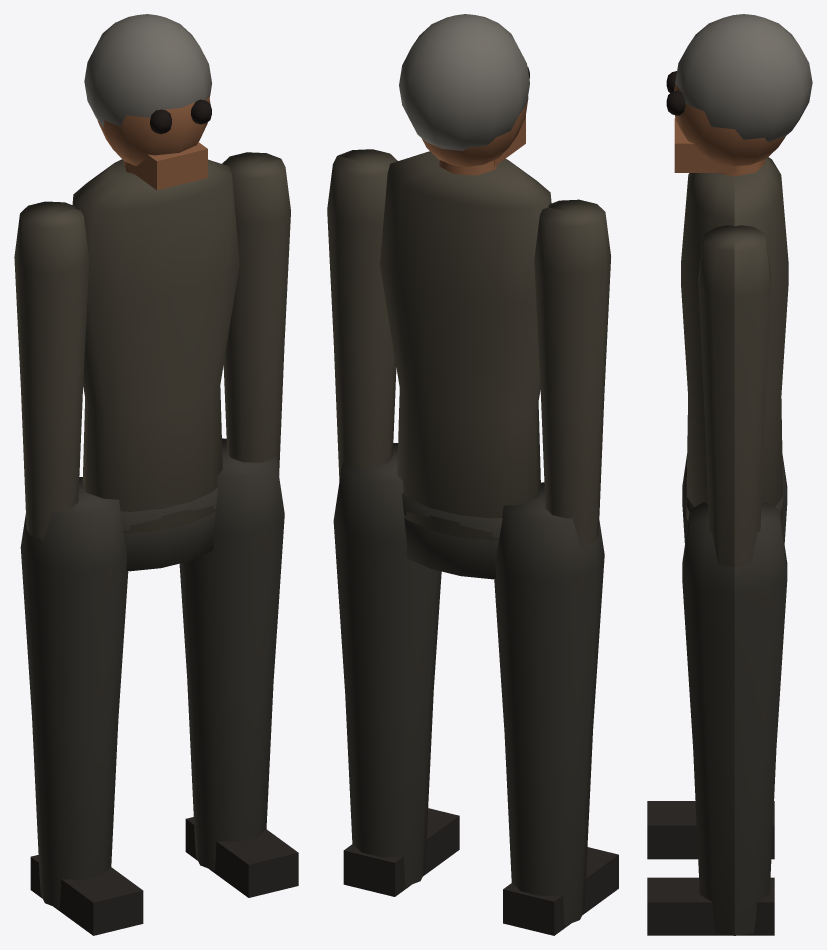
File: npc_jonah.glb
3 views of the same model, side by side, from view 1: azimuth 30°, elevation 25°; view 2: azimuth 150°, elevation 25°; view 3: azimuth 270°, elevation 25° (orthographic). The views are drawn at different scales.
Visible parts, largest first — view 1: npc_jonah; view 2: npc_jonah; view 3: npc_jonah.
Boxes of the visible parts, left/top/right/bottom form: npc_jonah: left=14, top=14, right=298, bottom=935; npc_jonah: left=327, top=14, right=618, bottom=935; npc_jonah: left=647, top=14, right=812, bottom=935.
Size of what is drawn, in the model's own units: 0.5884 by 1.8 by 0.3119.
